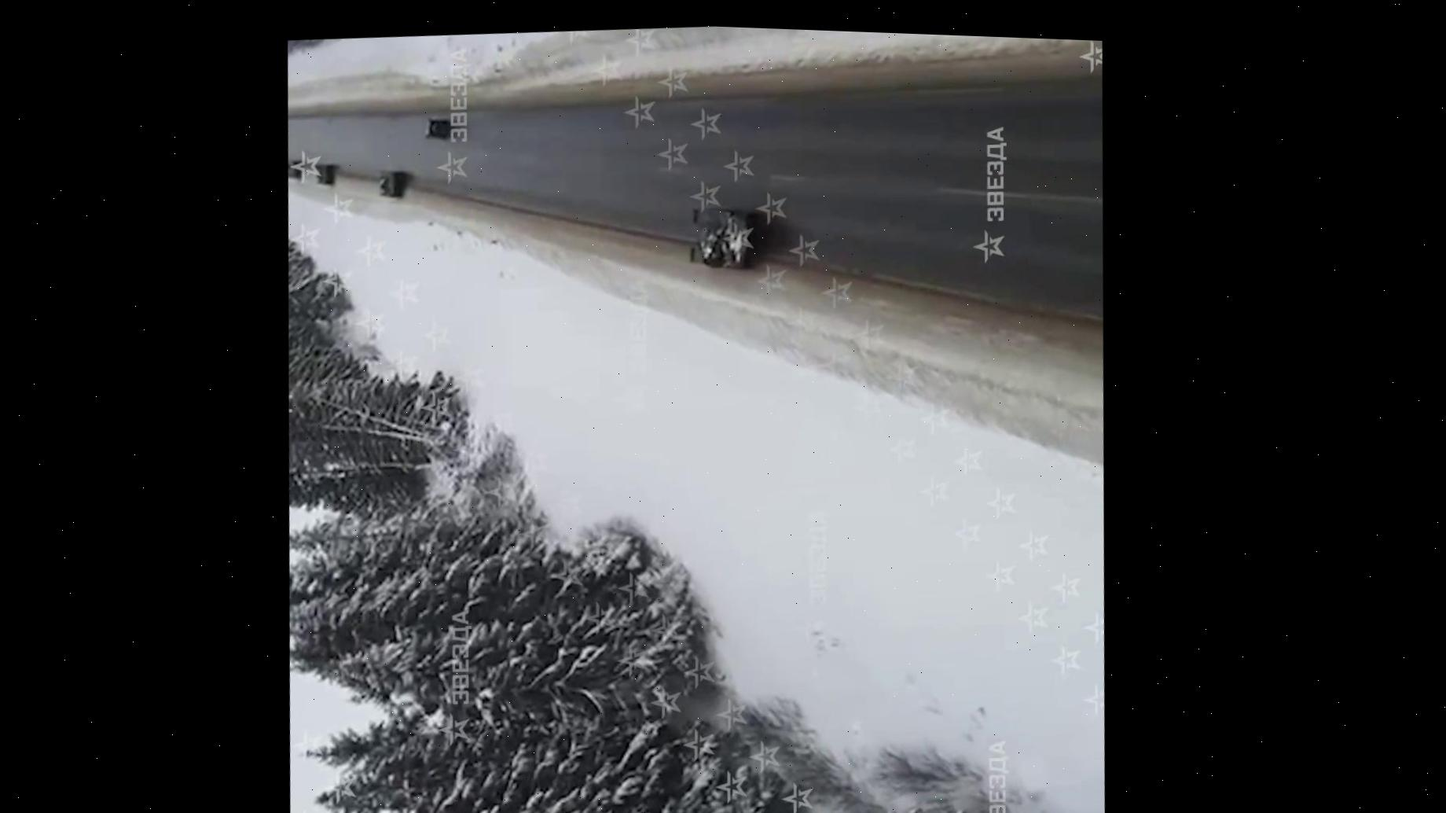car: (424, 115, 449, 138)
tank: (685, 202, 762, 274), (377, 167, 406, 198), (314, 159, 341, 188), (286, 156, 301, 180)
